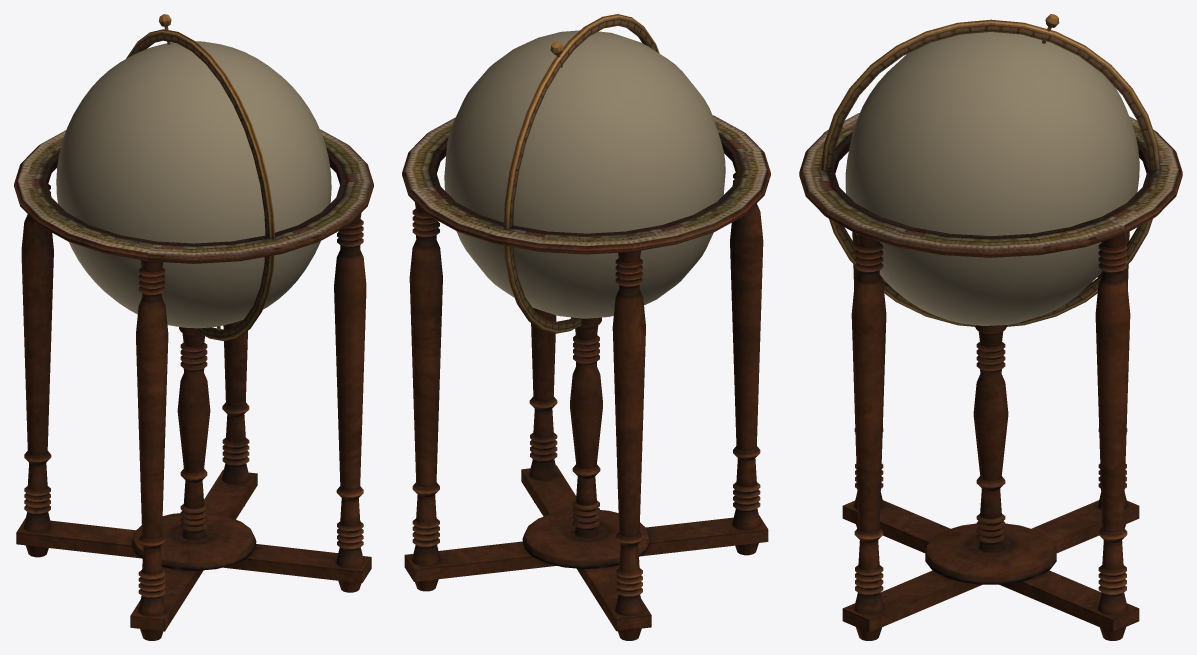
Rendered from globe-floor.glb.
3 views of the same model, side by side, from view 1: azimuth 30°, elevation 25°; view 2: azimuth 150°, elevation 25°; view 3: azimuth 270°, elevation 25° (orthographic). The views are drawn at different scales.
Visible parts, largest first — view 1: globe-floor; view 2: globe-floor; view 3: globe-floor.
Part boxes in pixels (bbox=[...]): globe-floor: bbox=[14, 14, 373, 640]; globe-floor: bbox=[402, 14, 770, 640]; globe-floor: bbox=[799, 14, 1182, 640].
Bounding box in the file's own units: 0.6399 × 1.05 × 0.6399.
2 materials, 2 textured.
